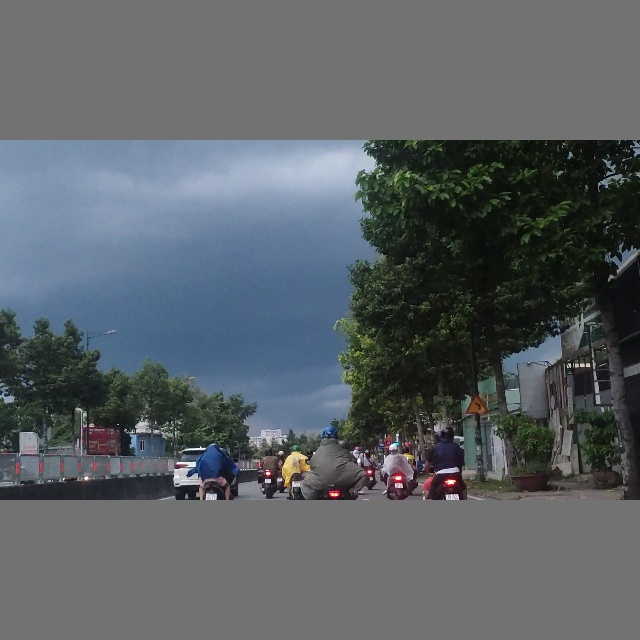W.201a: (463, 393, 491, 414)
